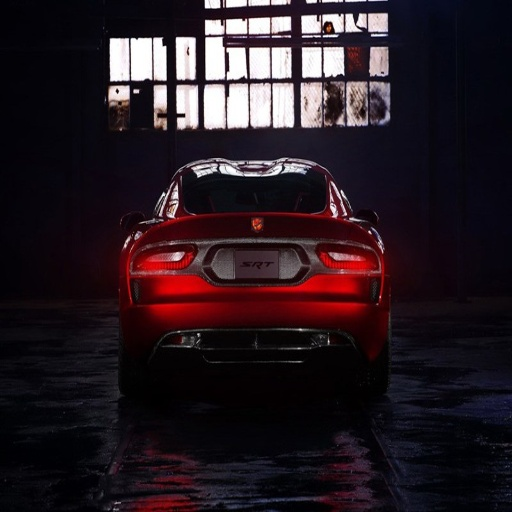back_bumper: (125, 282, 388, 345), (416, 399, 504, 490)
back_right_light: (325, 231, 383, 293)
